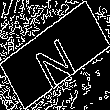N_NW: (29, 23, 81, 87)
